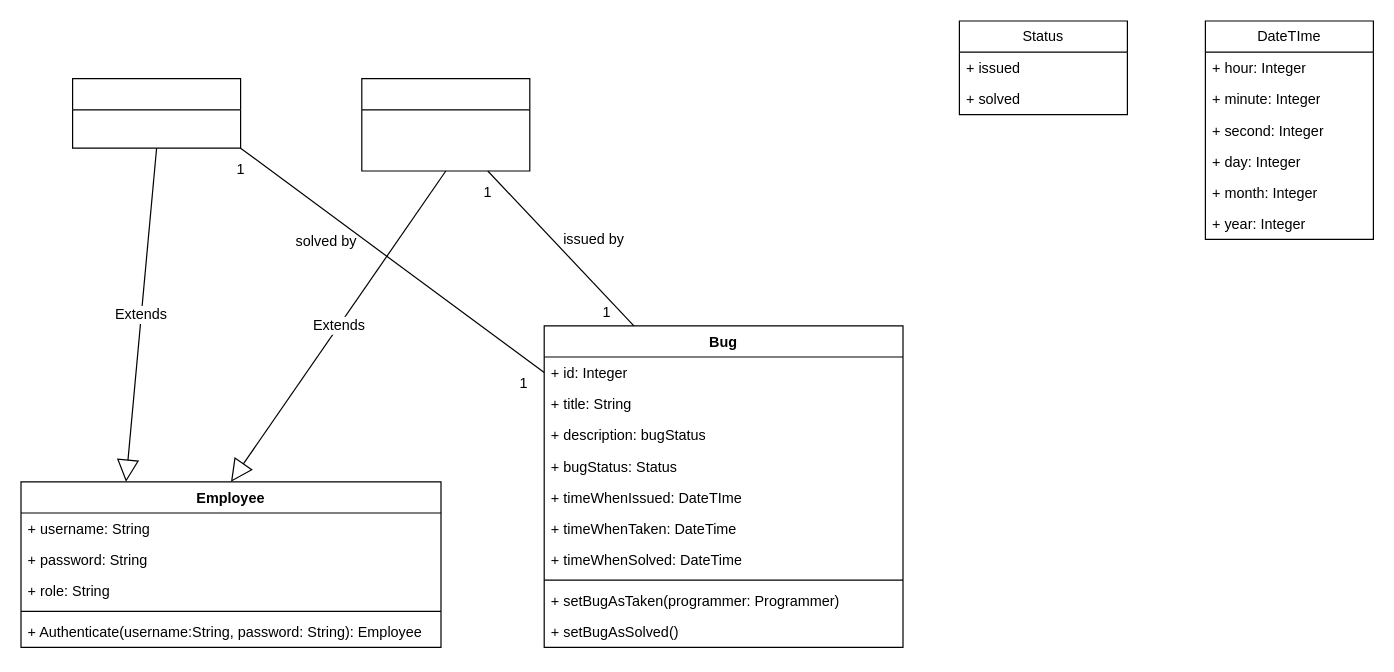
Some shapes in this 1394 by 672 pixel diagram are drawn without their labels. The centre of each missing label's shape, as x and y in pixels:
"Programmer" goes at (x=445, y=124).
"Tester" goes at (x=156, y=112).
